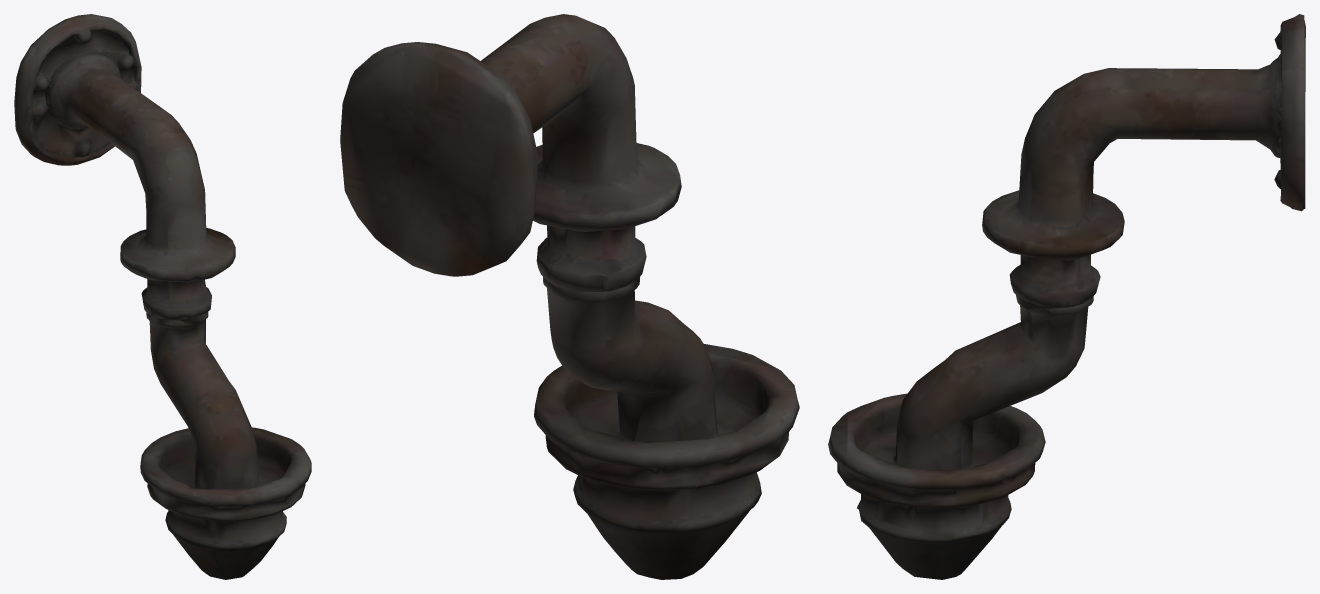
File: plain-iron-drainpipe-v001.glb
3 views of the same model, side by side, from view 1: azimuth 30°, elevation 25°; view 2: azimuth 150°, elevation 25°; view 3: azimuth 270°, elevation 25° (orthographic). The views are drawn at different scales.
Parts seen in each view (by area): view 1: plain-iron-drainpipe; view 2: plain-iron-drainpipe; view 3: plain-iron-drainpipe.
Boxes of the visible parts, x1,y1,x2,y2 form: plain-iron-drainpipe: (14, 14, 311, 579); plain-iron-drainpipe: (340, 14, 799, 579); plain-iron-drainpipe: (828, 14, 1305, 579).
Size of the model in its own units: 0.9888 by 2.85 by 2.25.
Materials: 1 (1 with a texture image).
